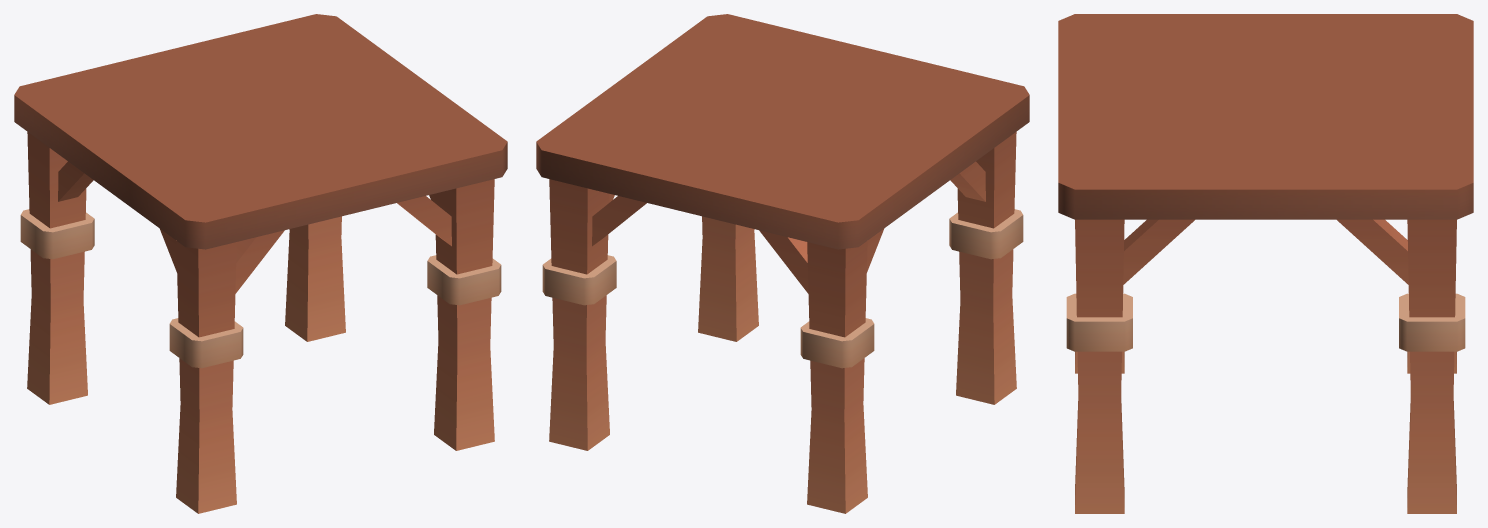
Rendered from structure.glb.
3 renders of one model, left to right at view 1: azimuth 30°, elevation 25°; view 2: azimuth 150°, elevation 25°; view 3: azimuth 270°, elevation 25°, orthographic. The views are drawn at different scales.
Parts seen in each view (by area): view 1: structure; view 2: structure; view 3: structure.
Part boxes in pixels (x1=…): structure: x1=14, y1=14, x2=507, y2=513; structure: x1=536, y1=14, x2=1029, y2=513; structure: x1=1058, y1=14, x2=1473, y2=513.
Bounding box in the file's own units: 2.5 × 2.2 × 2.5.
Materials: 1 (1 with a texture image).
